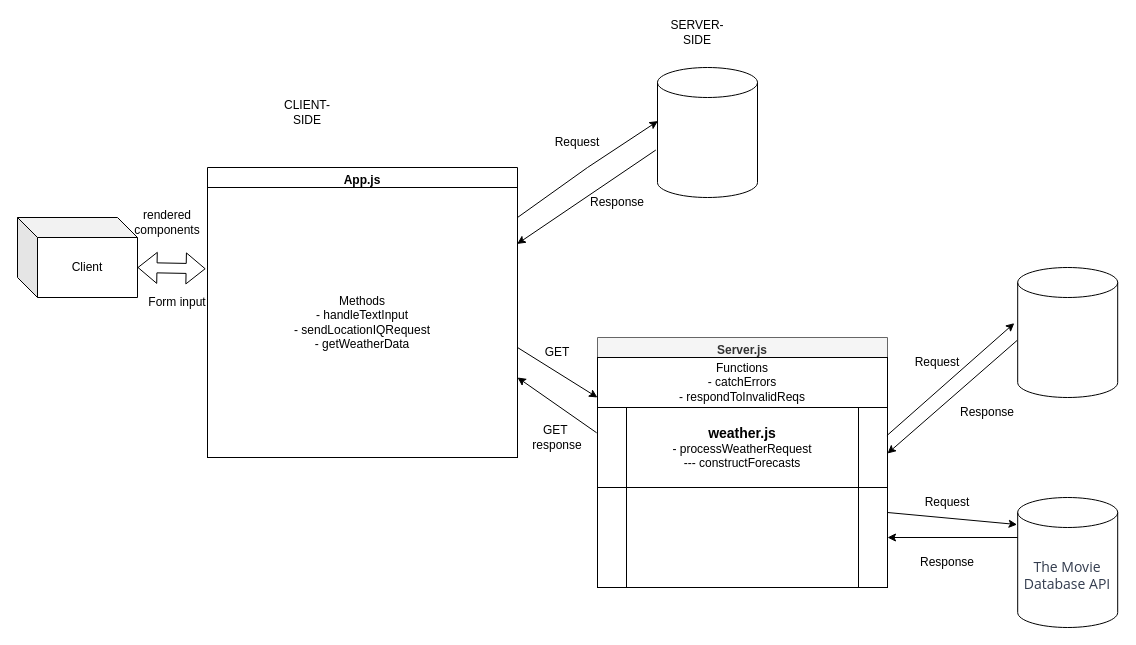
Some shapes in this 1136 by 645 pixel diagram are drawn without their labels. The centre of each missing label's shape, as x and y in pixels:
"LocationIQ" belongs at (x=707, y=132).
"movies.js - processMoviesRequest --- constructMovies" belongs at (x=742, y=537).
"WeatherIO" belongs at (x=1067, y=332).
